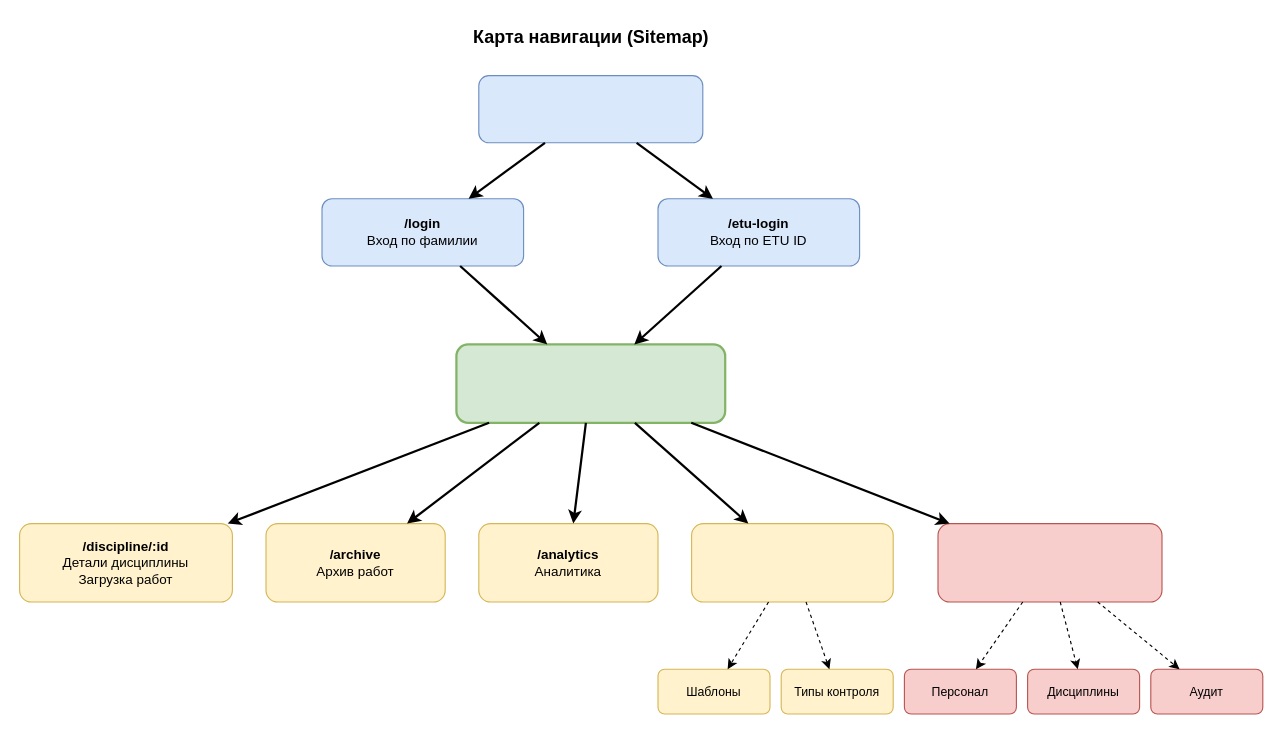
This 1282x734 diagram has some shape labels left out. The box of each missing label's shape, as (x1, y1, x2, y2) in pixels:
/admin Панель администратора (только ADMIN): (937, 522, 1162, 602)
/auth Выбор способа входа: (478, 74, 703, 143)
/disciplines Мои дисциплины (Главная): (455, 343, 726, 423)
/settings Шаблоны валидации: (690, 522, 893, 602)
